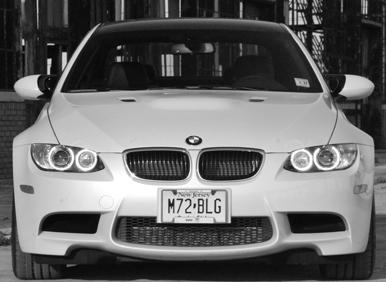car: (12, 20, 377, 281)
